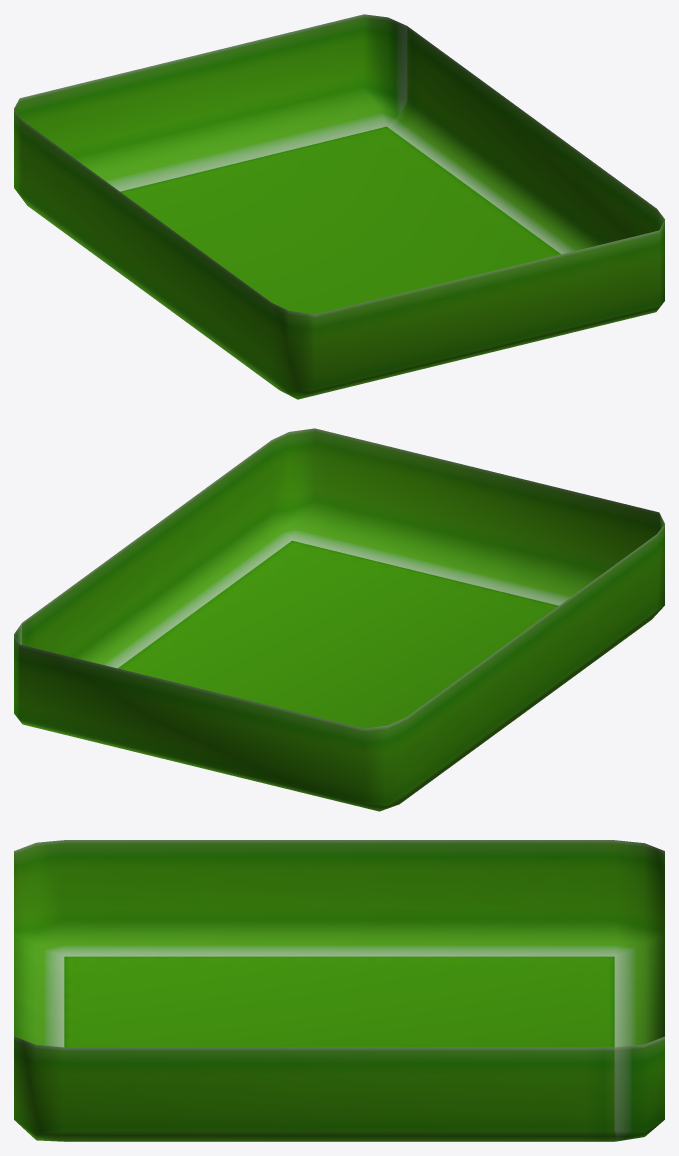
Rendered from Mahjong_ke.FBX.
3 views of the same model, one above another, from view 1: azimuth 30°, elevation 25°; view 2: azimuth 150°, elevation 25°; view 3: azimuth 270°, elevation 25° (orthographic). The views are drawn at different scales.
Visible parts, largest first — view 1: Mahjong_ke; view 2: Mahjong_ke; view 3: Mahjong_ke.
Boxes of the visible parts, x1,y1,x2,y2 form: Mahjong_ke: [14, 14, 664, 399]; Mahjong_ke: [14, 428, 664, 811]; Mahjong_ke: [14, 840, 664, 1141].
Bounding box in the file's own units: 75.11 × 17.81 × 99.7.
